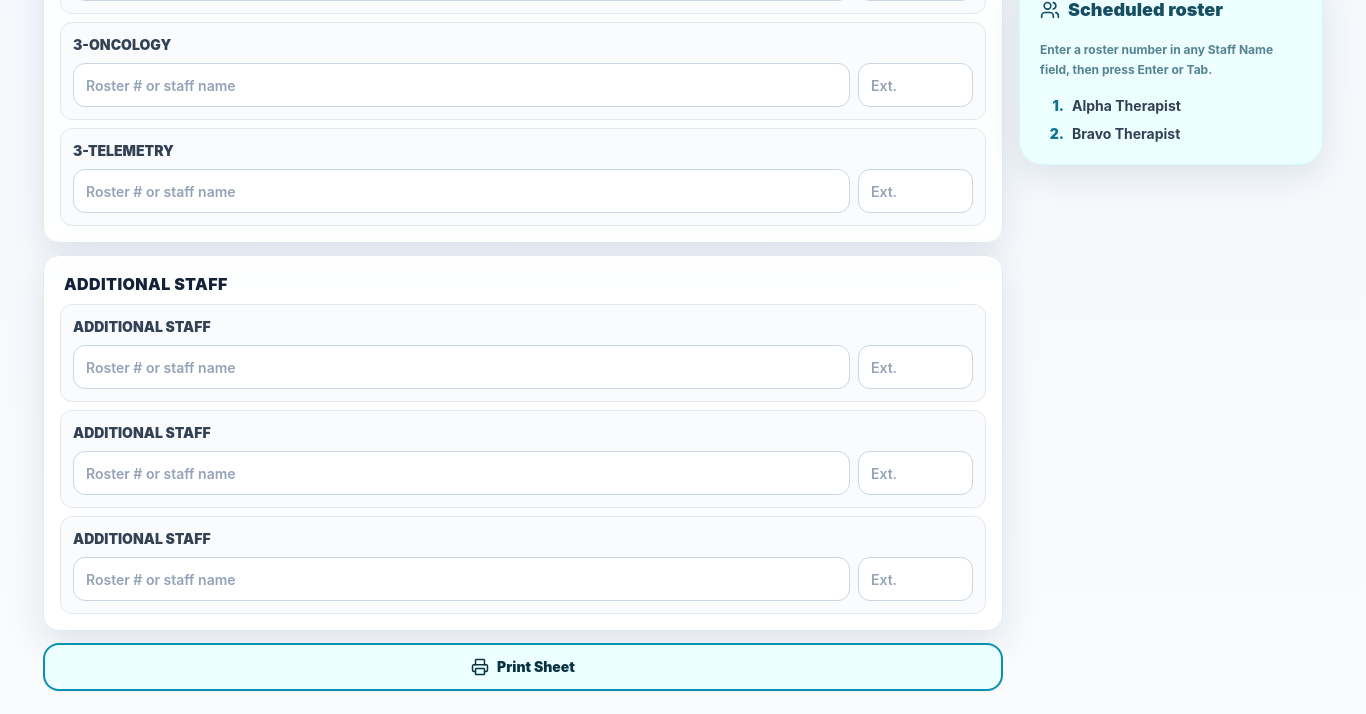
Test: PhoneListClient › shows a non-destructive message when browser printing is unavailable
(page scrolled)
Step 1. Click the button "Print Sheet" → (523, 667), box [43,643,1003,691]
(page scrolled)
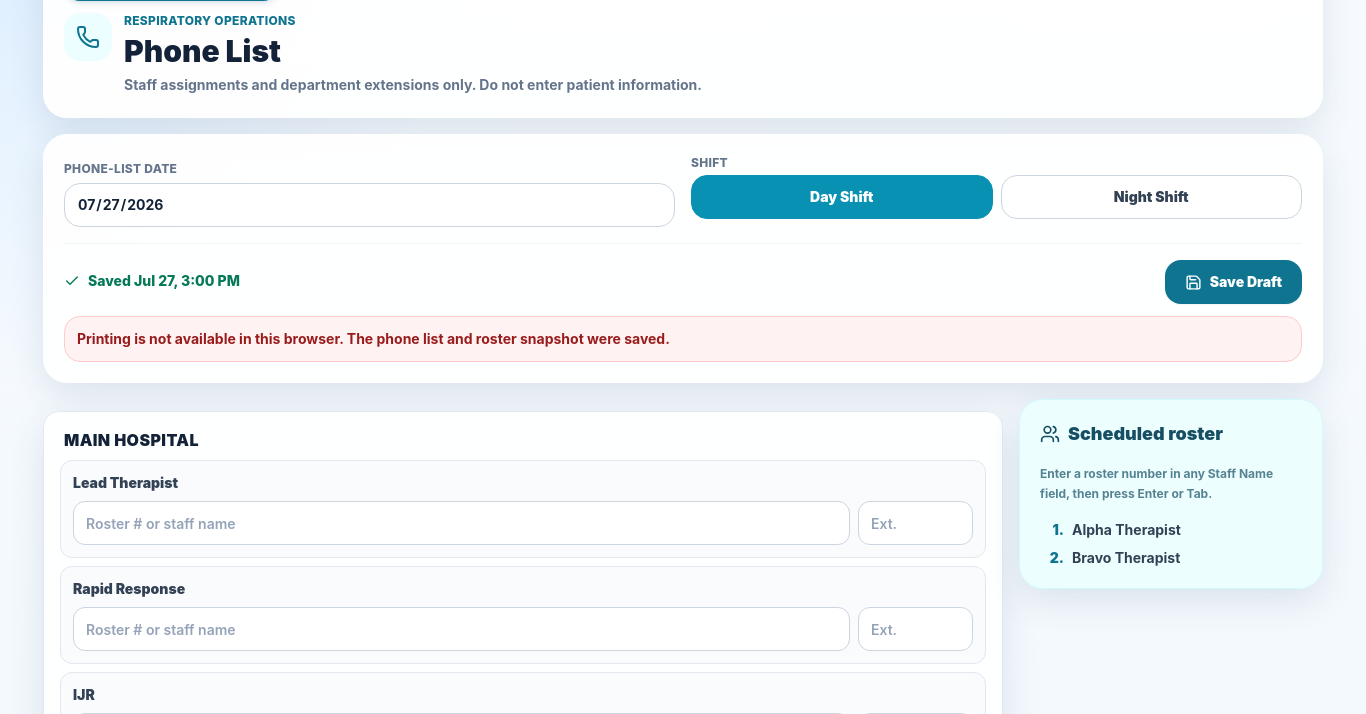
Check: the text "Printing is not available in this browser. The phone list and roster snapshot were saved." is shown, box [77,330,670,347]
